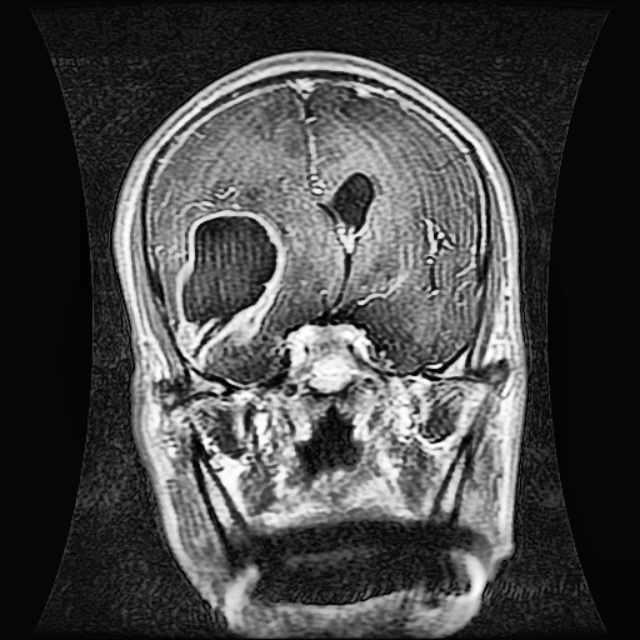Glioma: (172, 208, 287, 369)
